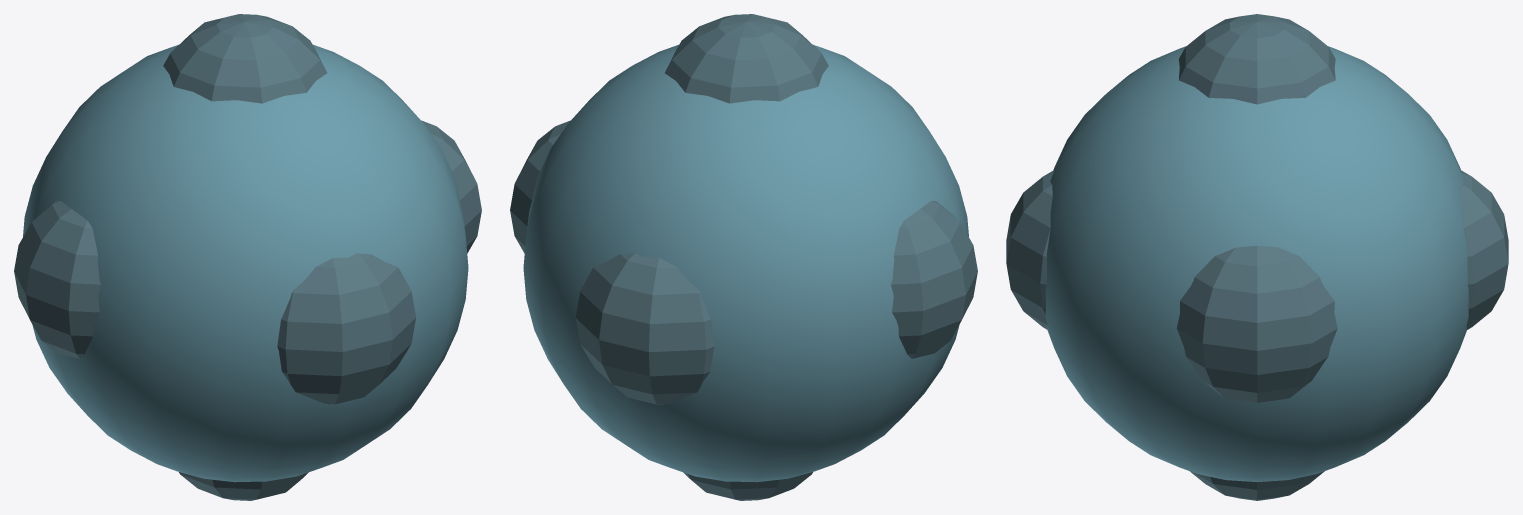
File: katamari.fbx
The picture shows the model from 3 angles, left to right: view 1: azimuth 30°, elevation 25°; view 2: azimuth 150°, elevation 25°; view 3: azimuth 270°, elevation 25°; orthographic projection.
Parts seen in each view (by area): view 1: pSphere8; view 2: pSphere8; view 3: pSphere8.
Part boxes in pixels (x1=…): pSphere8: x1=14, y1=14, x2=481, y2=500; pSphere8: x1=510, y1=14, x2=977, y2=500; pSphere8: x1=1006, y1=14, x2=1508, y2=500.
Bounding box in the file's own units: 7.43 × 7.53 × 7.28.
